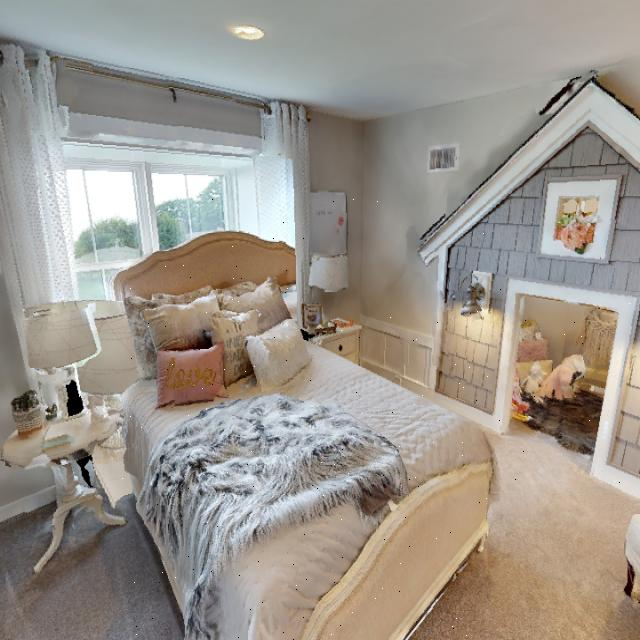bed: (119, 188, 491, 640)
door-frame: (498, 248, 632, 489)
